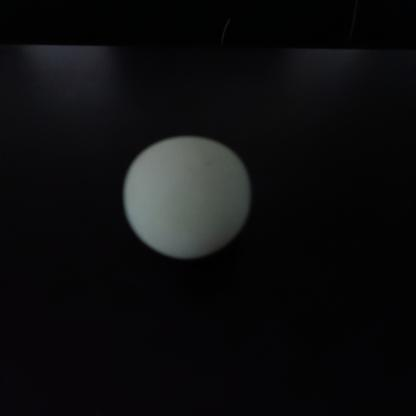egg: (122, 131, 266, 261)
